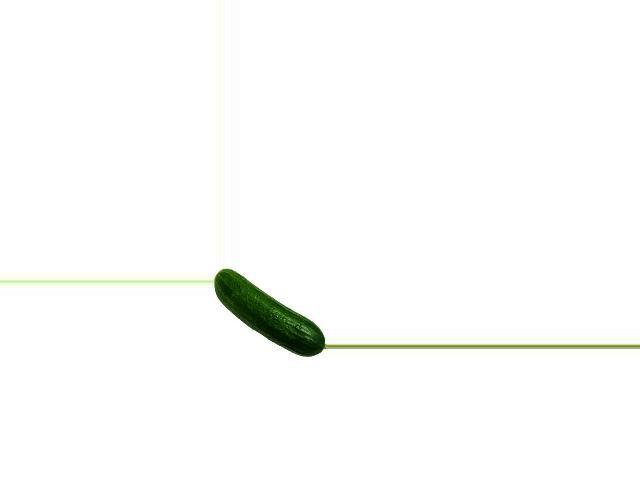cucumber: (213, 269, 326, 357)
